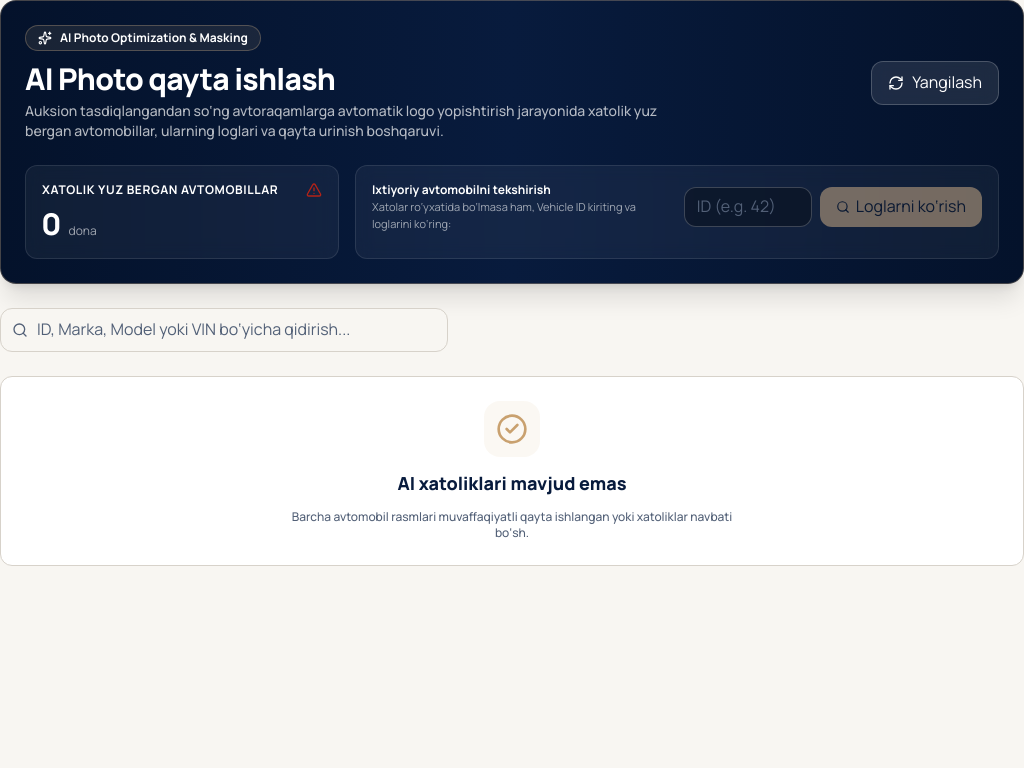
Test: AdminAiProcessingWorkspace › supports manual vehicle ID inspection via the search input
The width and height of the screenshot is (1024, 768).
Type "999" into the field named "Vehicle ID" at [748, 207], box [684, 187, 812, 227]
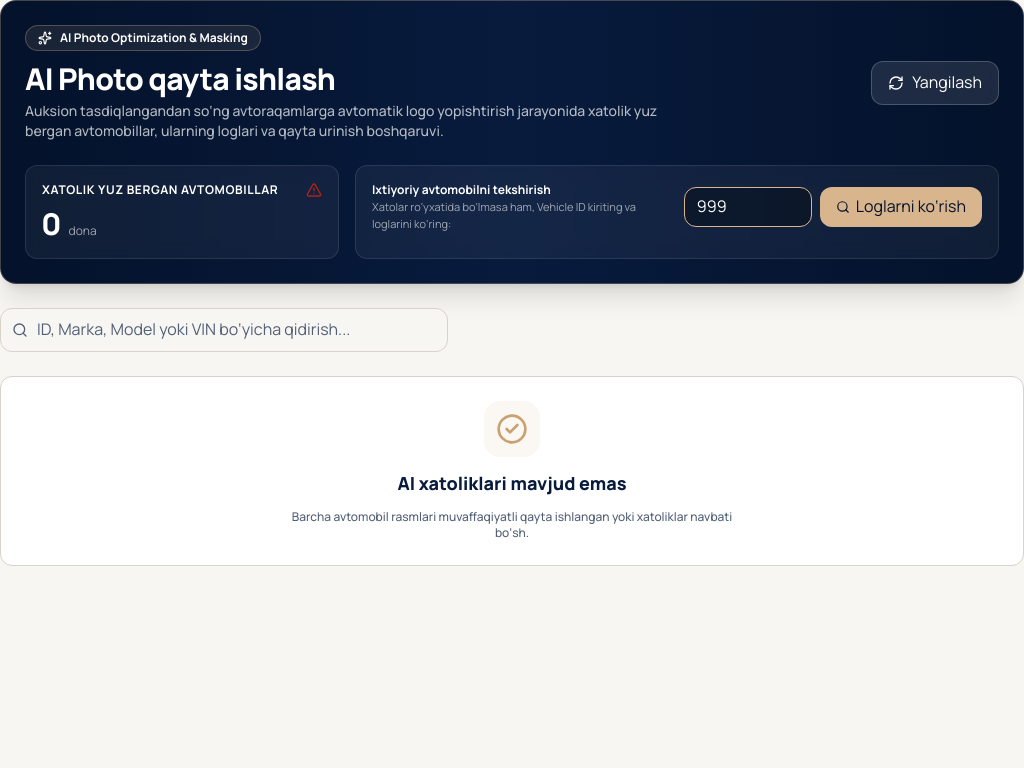
Click the button "Loglarni ko‘rish" at [901, 207], box [820, 187, 982, 227]
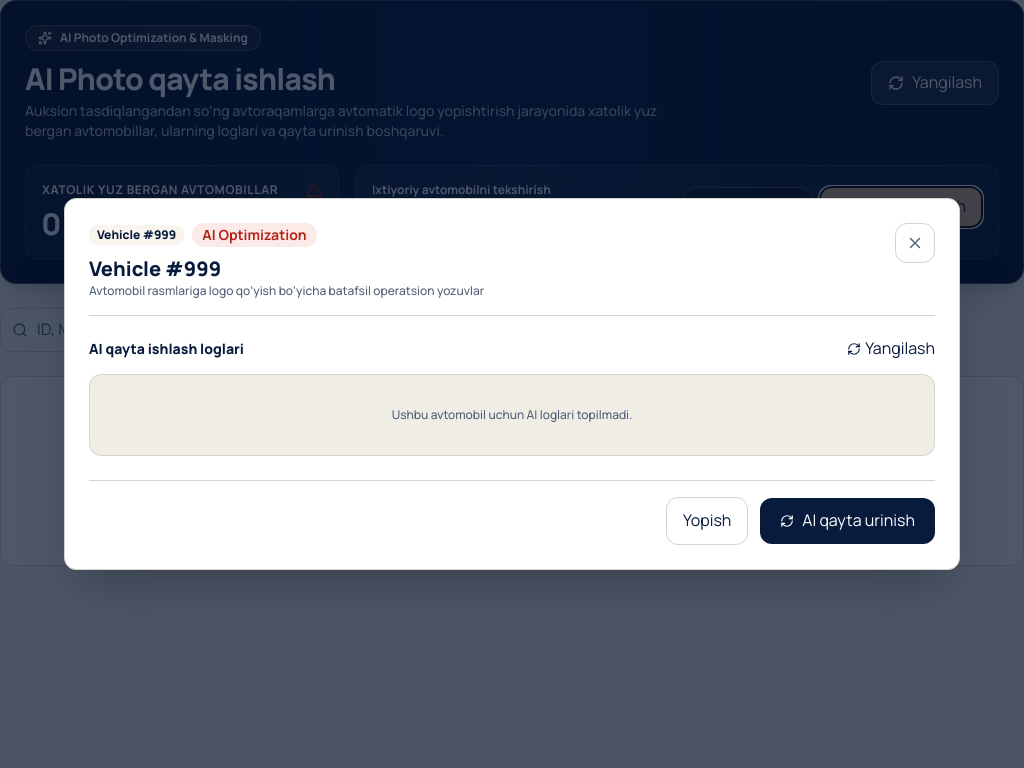
Result: the text "Vehicle #999" is shown at [89, 225, 184, 245]
